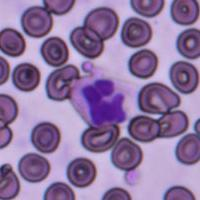N: (69, 68, 131, 130)
